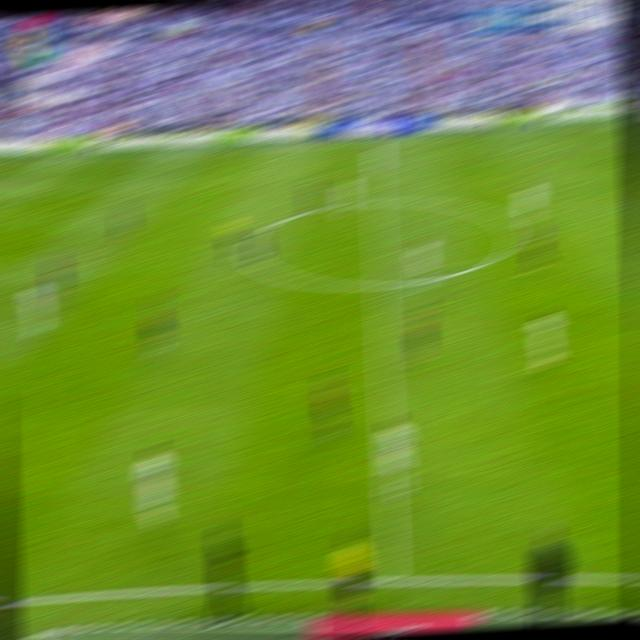halfcircle_bottom: (370, 273, 392, 296)
halfcircle_top: (367, 192, 389, 210)
midline_bottom_intersection: (379, 564, 404, 589)
midline_top_intersection: (366, 137, 385, 146)
